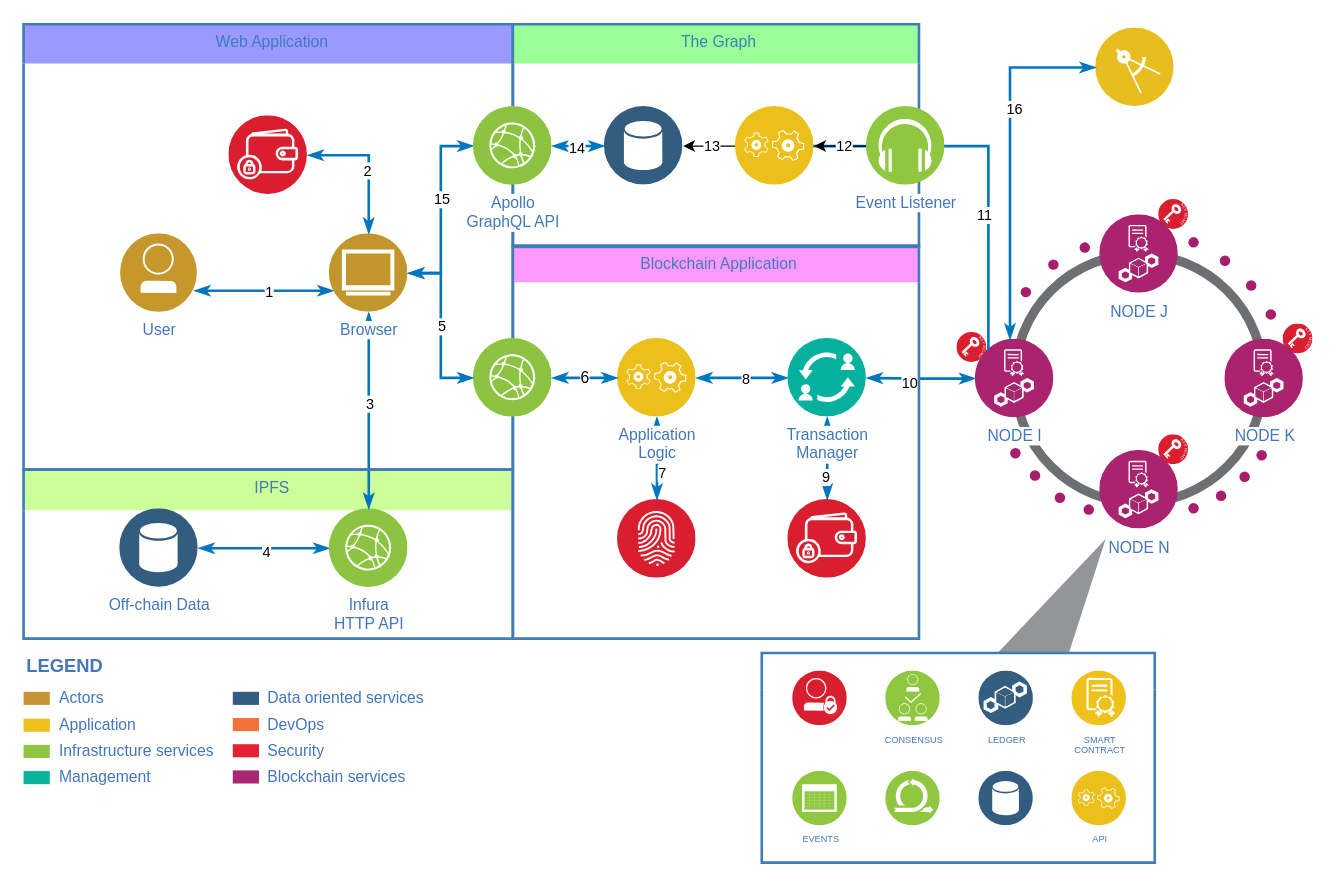
Some shapes in this 1336 by 886 pixel diagram are drawn without their labels. The shapes that lost their labels are listed below. From the top down, each one's centre as x and y in pixels, then its label:
the point at 1134,67: Trusted External Services (eg. Chainlink)
the point at 267,154: Metamask
the point at 643,145: Indexed On-chain Data
the point at 774,145: Indexing Logic
the point at 512,377: ALCHEMY JSON RPC API
the point at 656,538: Identity Management
the point at 826,538: Transaction Authentication
the point at 819,698: MEMBERSHIP
the point at 912,798: COMMUNICATION
the point at 1005,798: DATA STORE
